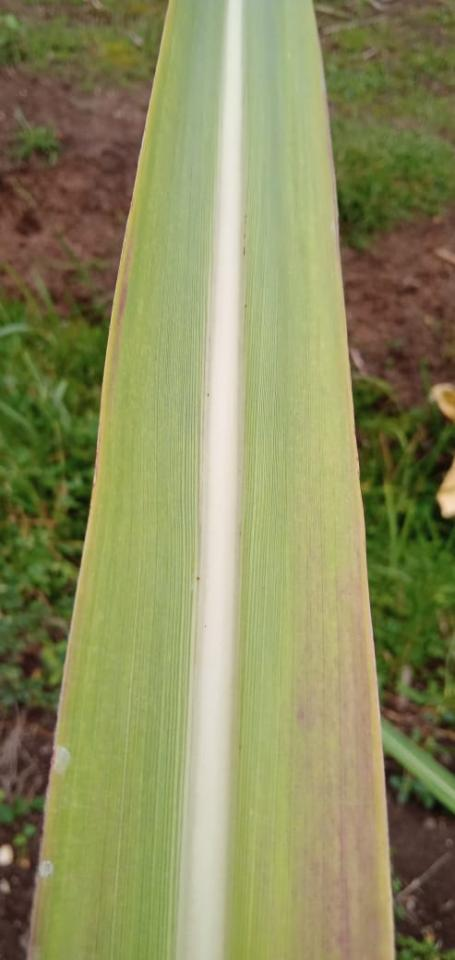Yellow: (294, 418, 396, 959)
